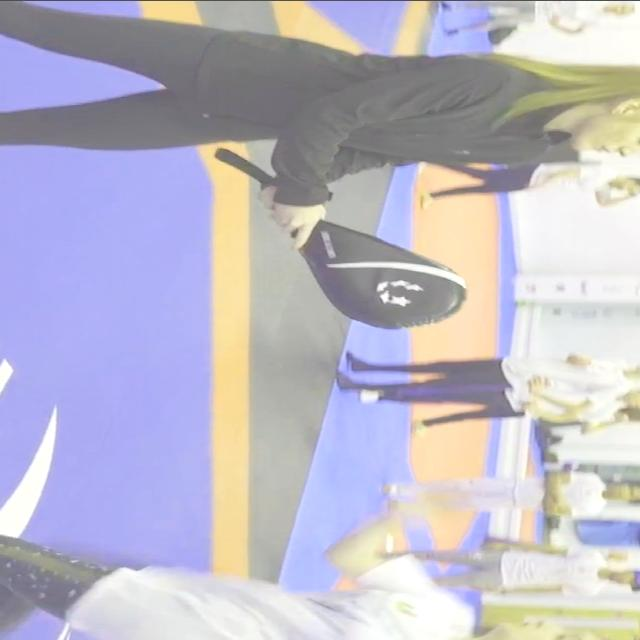paddle: (290, 216, 472, 332)
